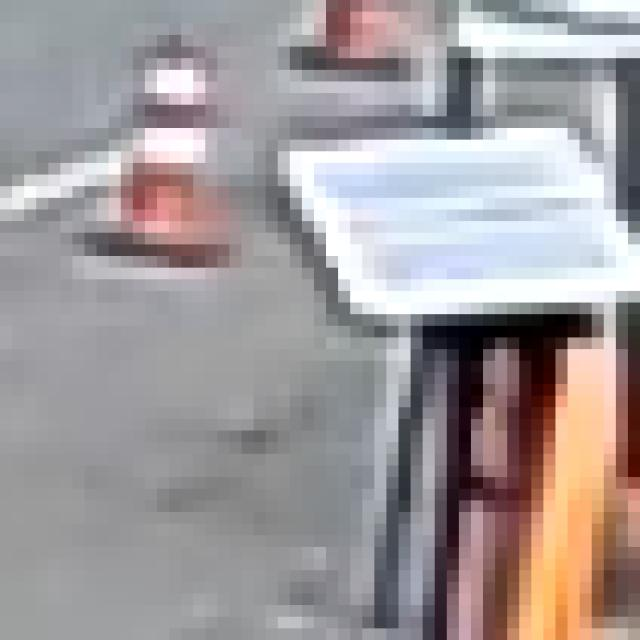small_cone: (85, 23, 242, 268)
